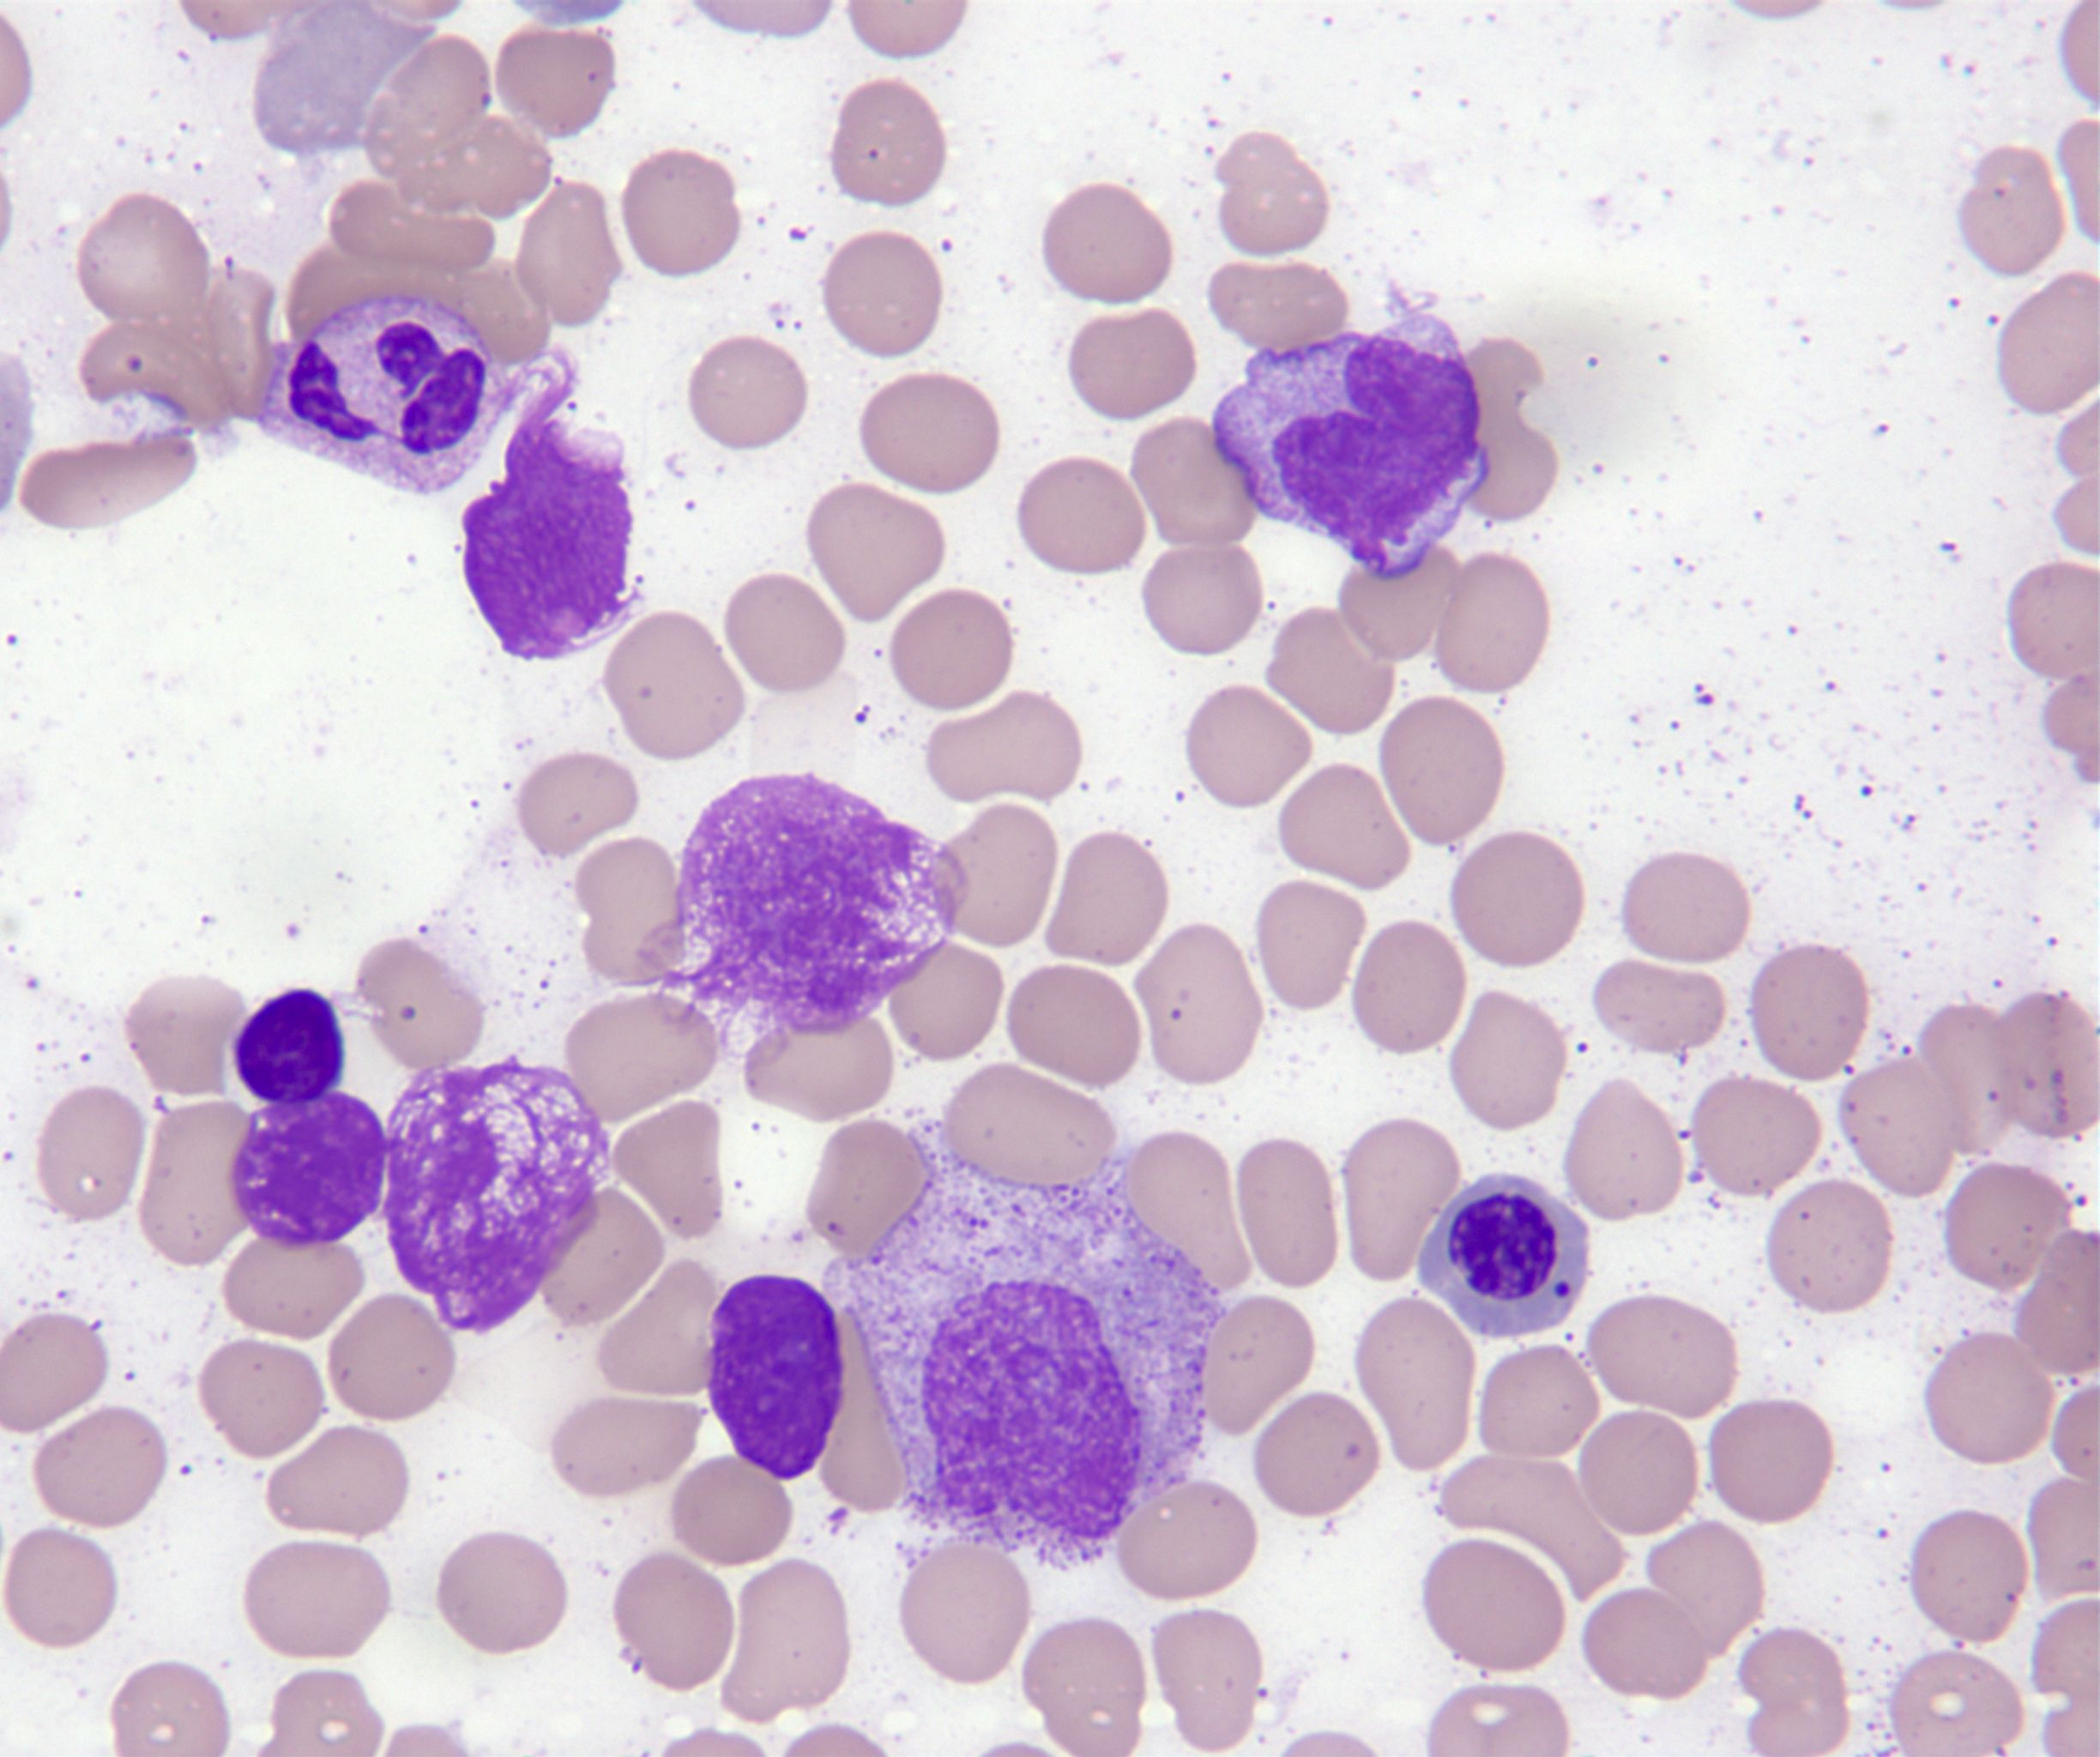24: (1418, 1174, 1589, 1338)
32: (234, 989, 344, 1104)
42: (1212, 312, 1488, 579)
6: (256, 295, 515, 496)
x: (827, 1115, 1221, 1576), (638, 775, 968, 1070), (387, 1057, 609, 1333), (464, 351, 638, 660), (710, 1275, 844, 1480), (227, 1090, 384, 1251)
